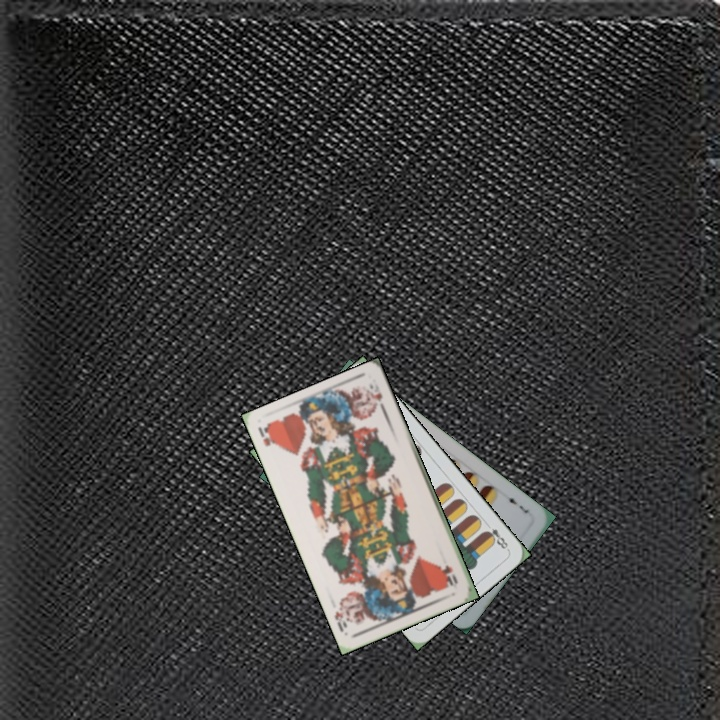E7: (502, 490, 531, 516)
E8: (480, 518, 511, 553)
HO: (254, 420, 279, 449), (440, 561, 460, 590)
